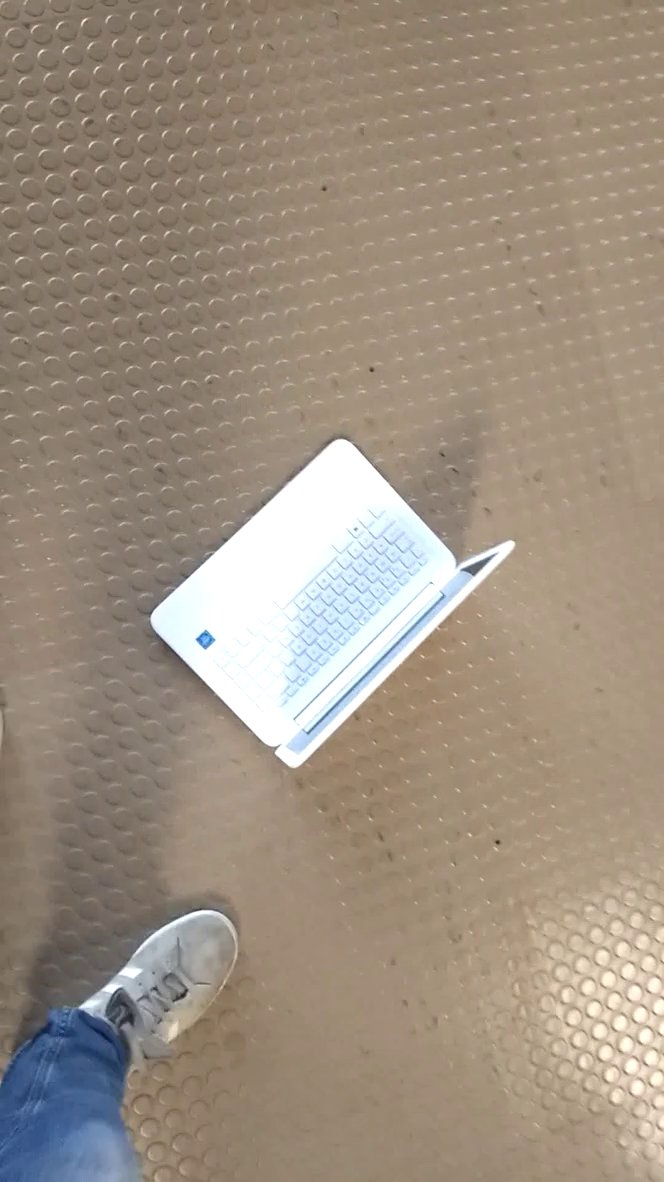laptop: (140, 424, 526, 778)
